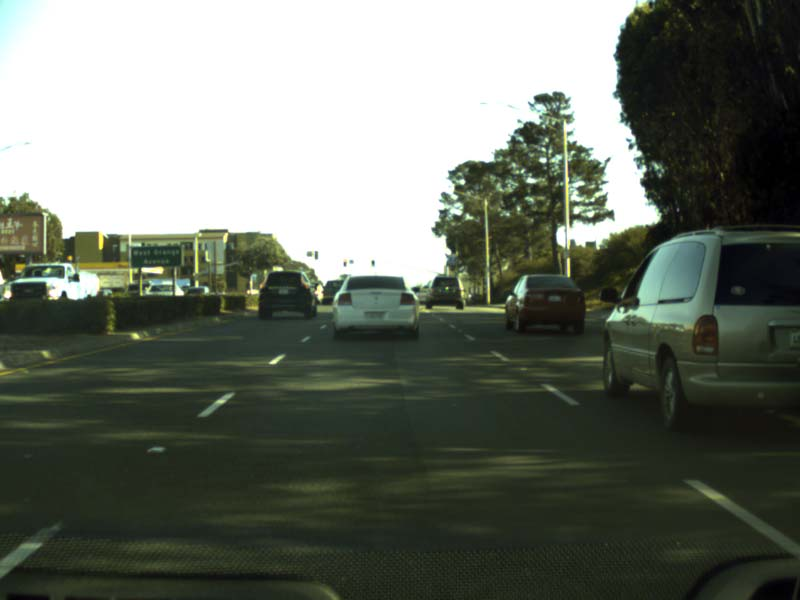Green: (370, 259, 374, 267)
Red: (342, 259, 346, 266)
